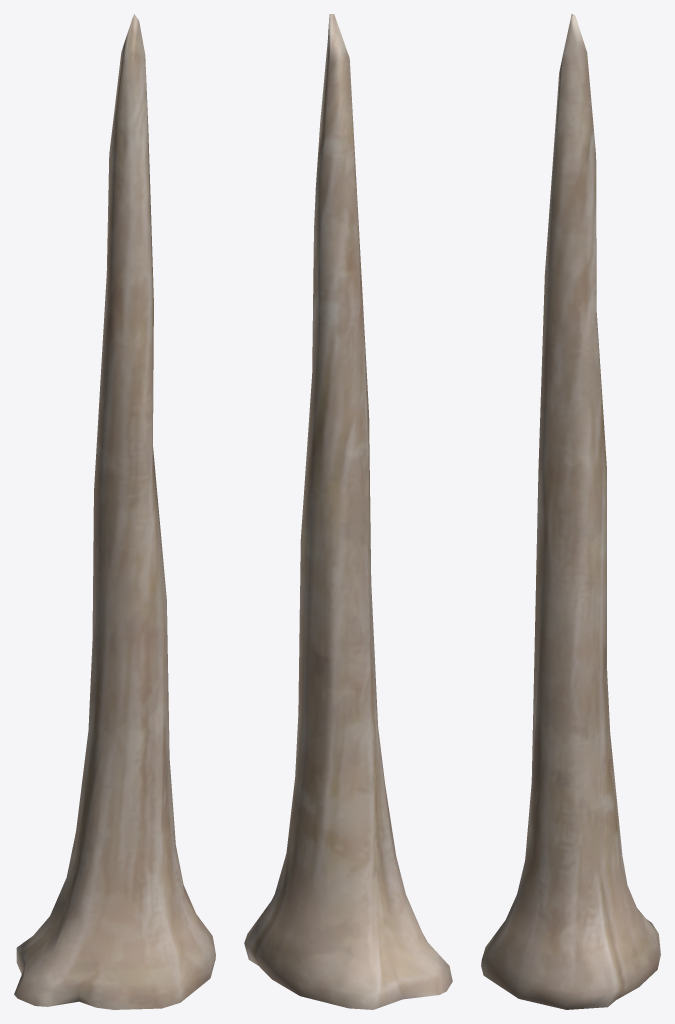
File: Stone_Thorn_03.FBX
3 renders of one model, left to right at view 1: azimuth 30°, elevation 25°; view 2: azimuth 150°, elevation 25°; view 3: azimuth 270°, elevation 25°, orthographic.
Parts seen in each view (by area): view 1: Stone_Thorn_03_LOD0; view 2: Stone_Thorn_03_LOD0; view 3: Stone_Thorn_03_LOD0.
Part boxes in pixels (box(x1,y1,x2,y2)): Stone_Thorn_03_LOD0: box(14, 14, 215, 1009); Stone_Thorn_03_LOD0: box(244, 14, 452, 1009); Stone_Thorn_03_LOD0: box(481, 14, 660, 1009).
Size of what is drawn, in the model's own units: 0.3253 by 1.54 by 0.2621.
